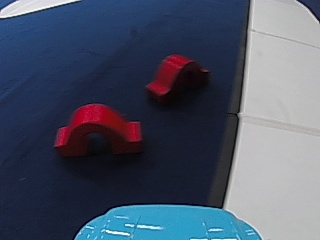bridge: (50, 99, 138, 159), (143, 52, 208, 108)
